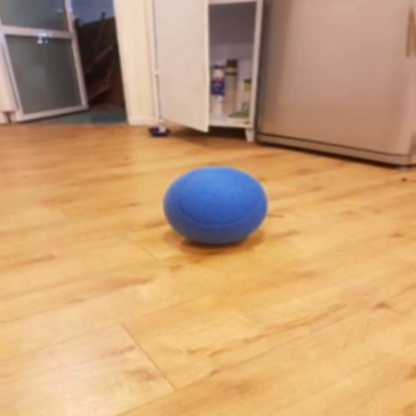sphere: (136, 161, 266, 253)
